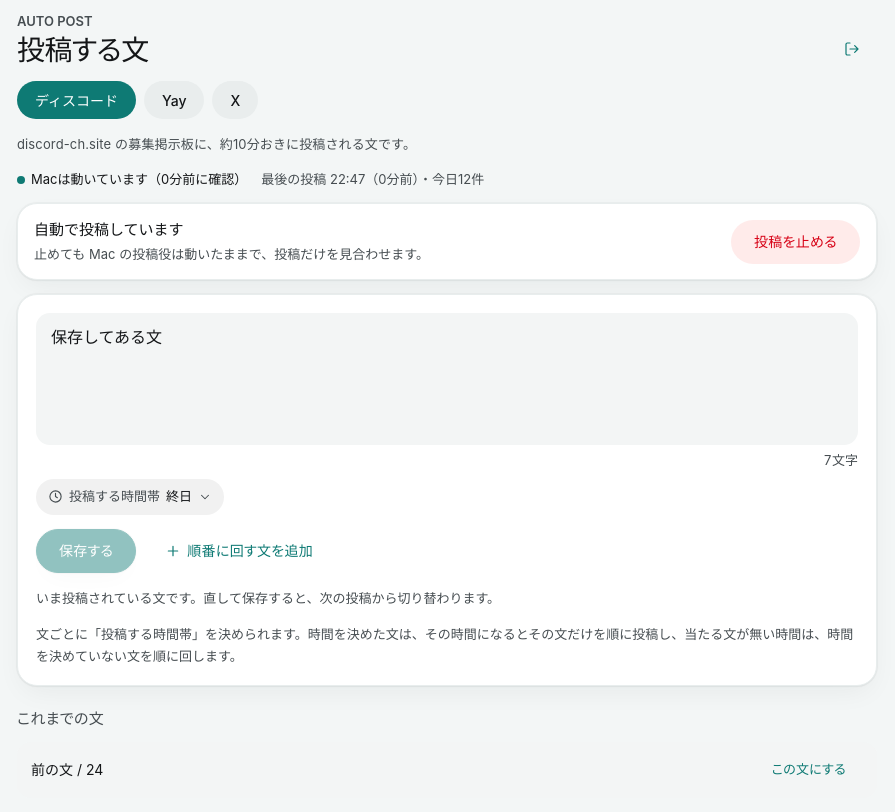
Test case: AutoPostView › 直すと保存できるようになり、見ていた版を添えて保存する
The width and height of the screenshot is (895, 812).
Expected: the button "保存する" is disabled, [36, 529, 136, 573]
Step 1. Replace the text in the text box with "直した文" → {"x": 447, "y": 379}, box [36, 313, 858, 445]
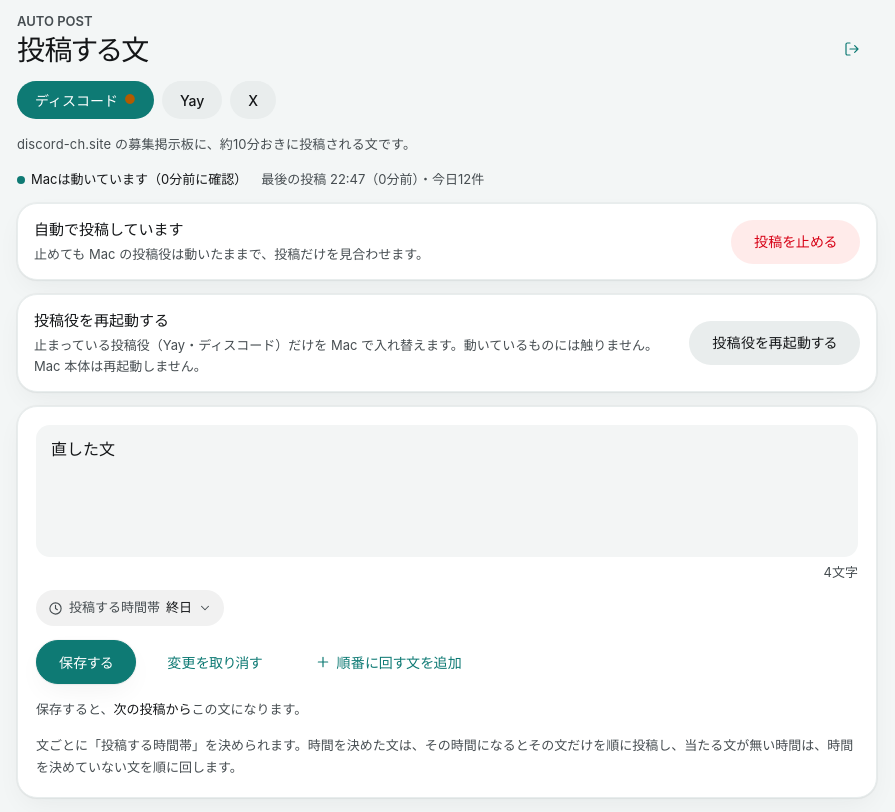
Expected: the text "次の投稿から" is shown, [114, 701, 192, 717]
Result: the button "保存する" is enabled
Step 2. Click the button "保存する" → {"x": 86, "y": 662}, box [36, 640, 136, 684]
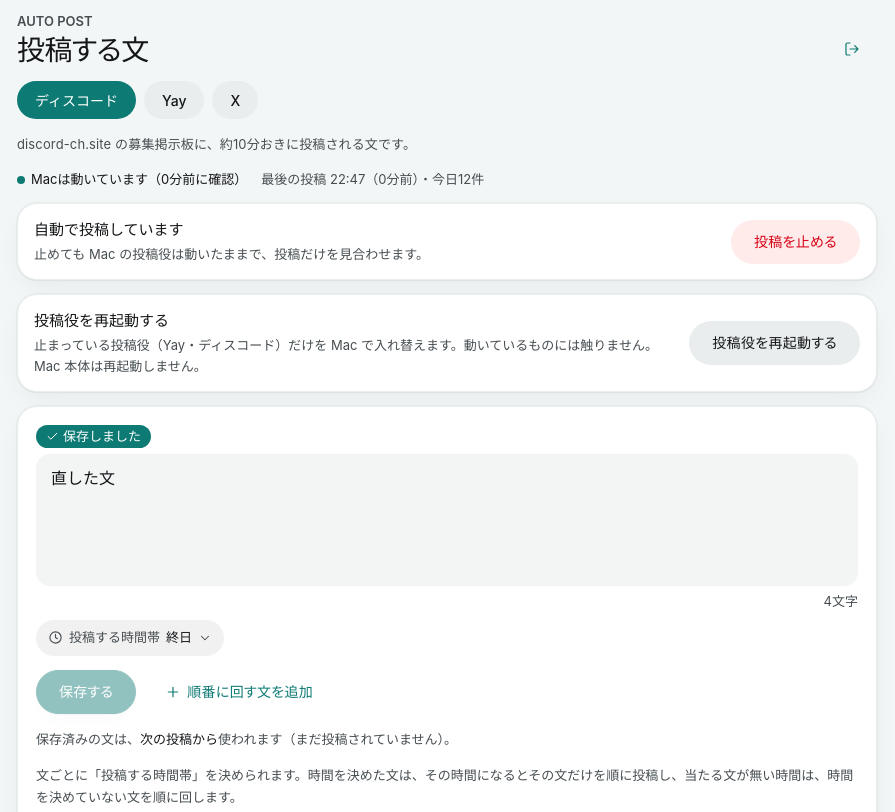
Result: the button "保存する" is disabled at [36, 670, 136, 714]
